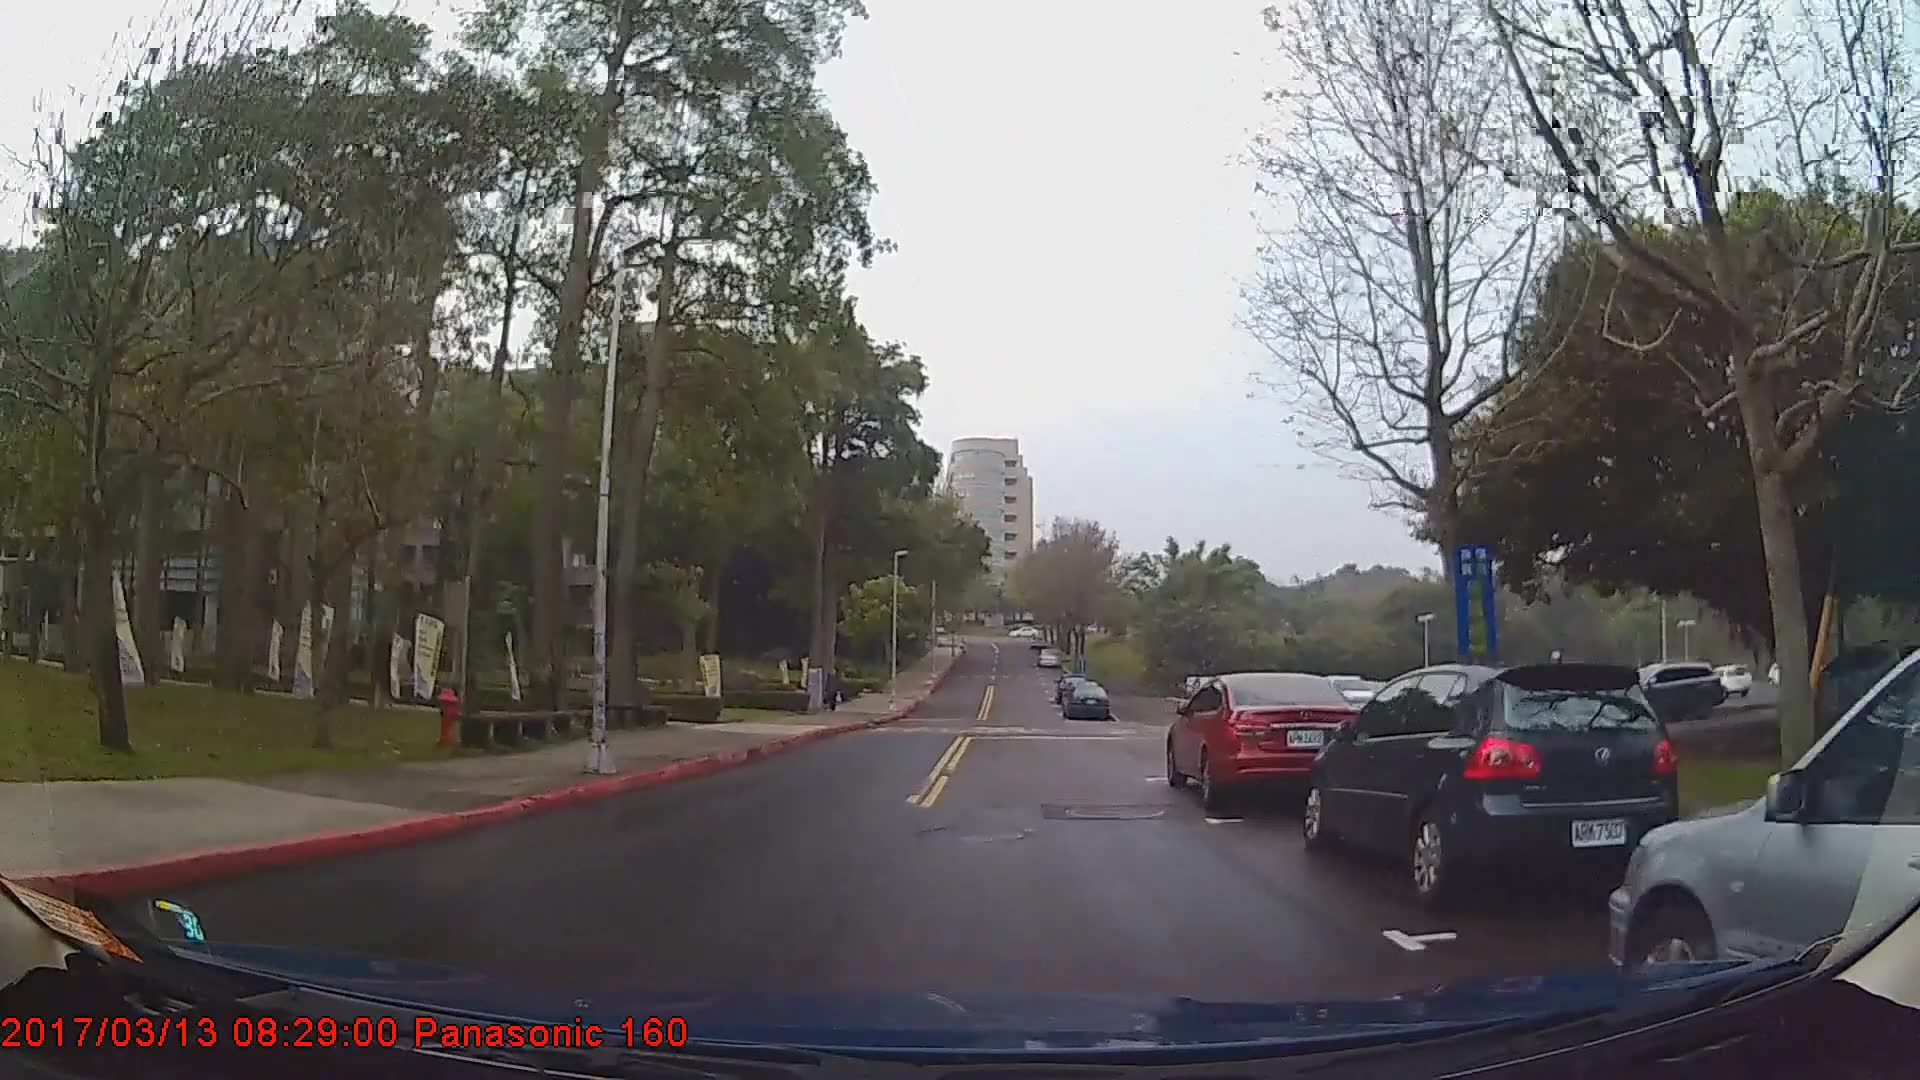vehicle: (1607, 645, 1919, 1014), (1302, 659, 1677, 905), (1166, 673, 1362, 806), (1600, 659, 1727, 720), (1062, 679, 1109, 720)
